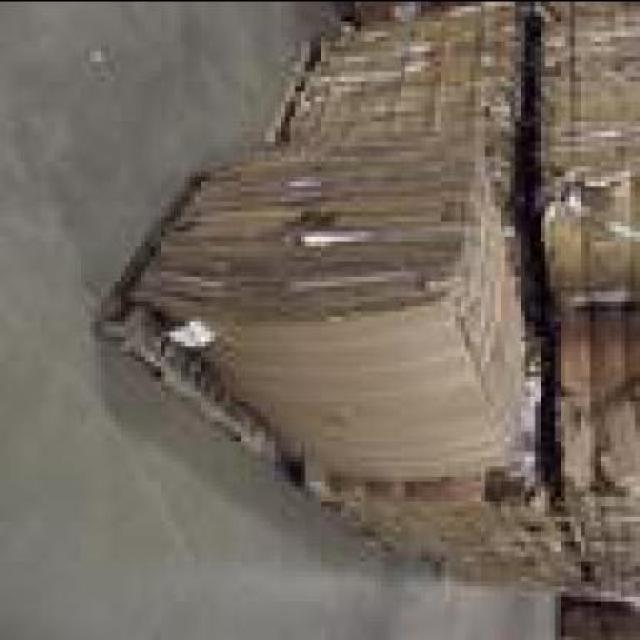CARDBOARD: (144, 155, 536, 480), (285, 5, 540, 290), (160, 295, 511, 480), (345, 345, 580, 590), (536, 5, 638, 306), (556, 309, 638, 602)
